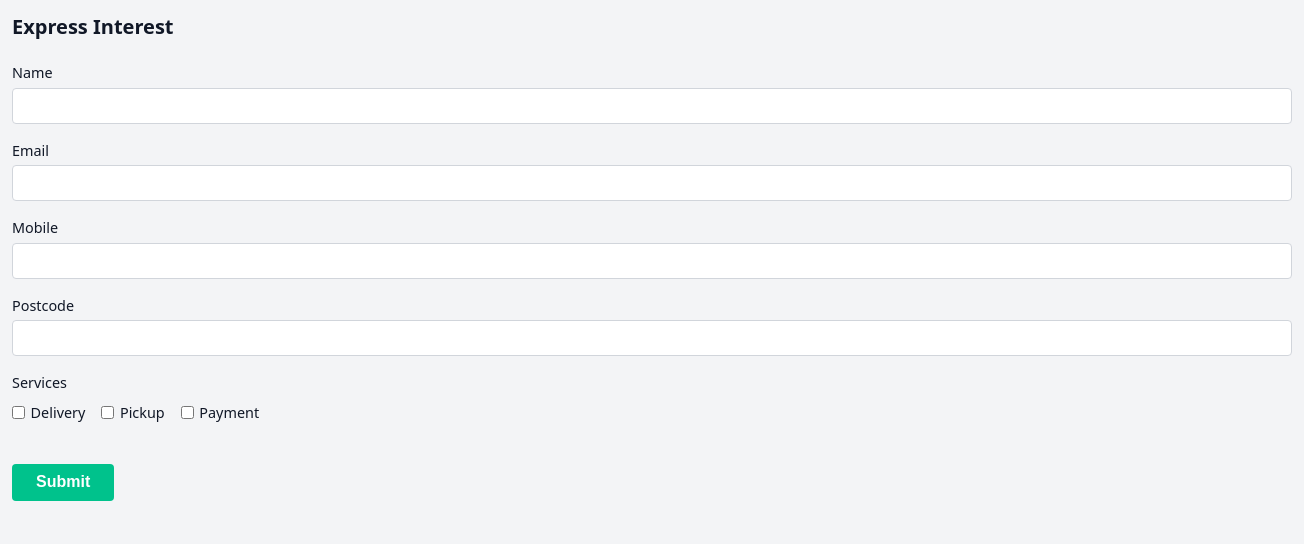
RegistrationForm validation › shows "Mobile is invalid" when an incorrectly formatted mobile number is submitted
Type "Jane Smith" into the field labelled "Name".
click(652, 106); type("Jane Smith")  # box 12,88 -> 1292,124
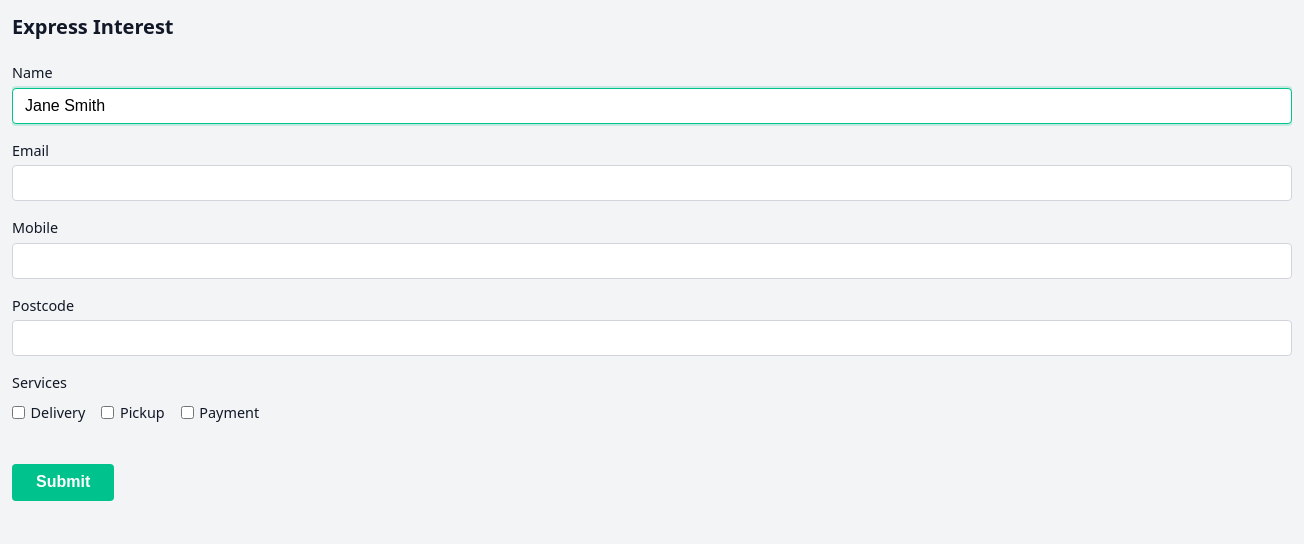
Type "jane@example.com" into the field labelled "Email".
click(652, 183); type("jane@example.com")  # box 12,165 -> 1292,201
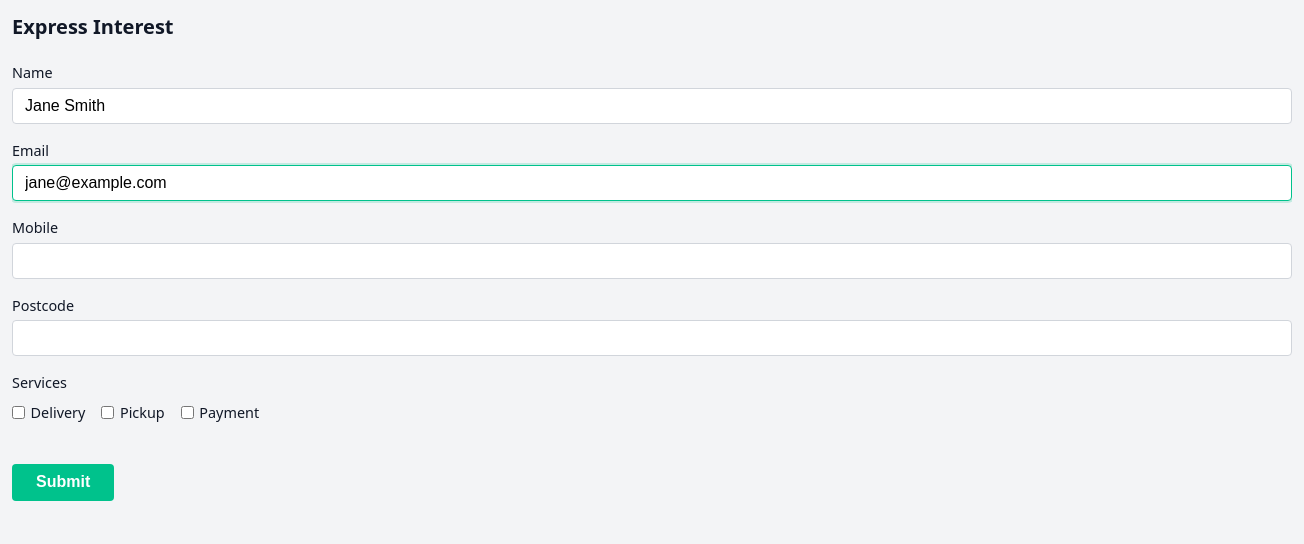
Type "04" into the field labelled "Mobile".
click(652, 261); type("04")  # box 12,243 -> 1292,279
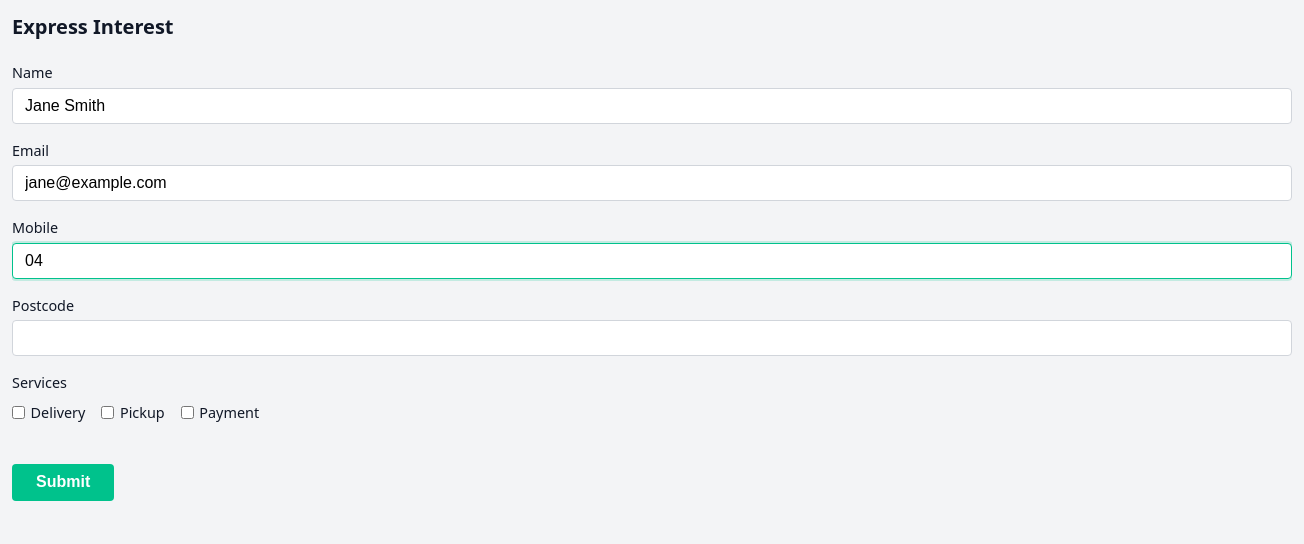
Type "2000" into the field labelled "Postcode".
click(652, 338); type("2000")  # box 12,320 -> 1292,356
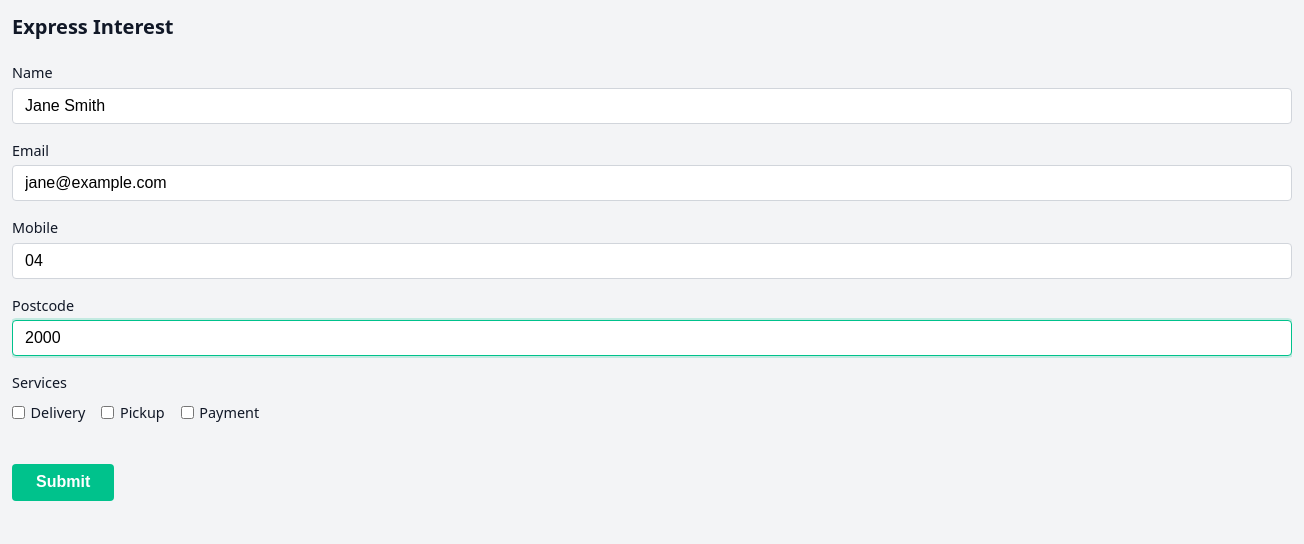
Click the checkbox labelled "Delivery".
click(18, 413)  # box 12,406 -> 25,419
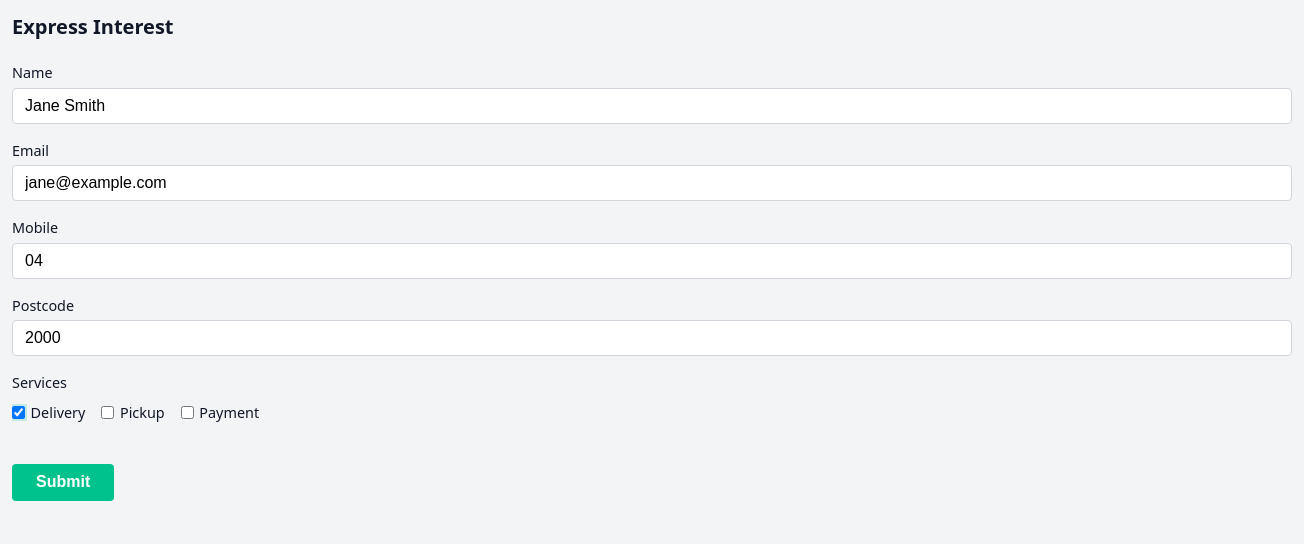
Click the button "Submit".
click(63, 482)  # box 12,464 -> 114,501
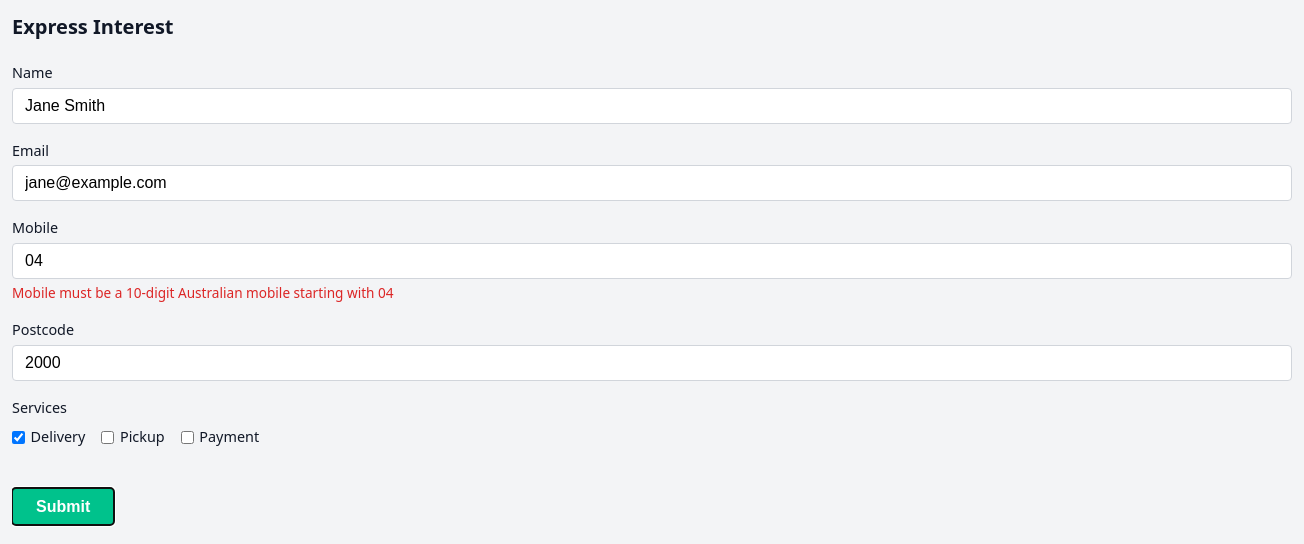
Expected: the text "Mobile must be a 10-digit Australian mobile starting with 04" is shown, 12,283 -> 394,302
